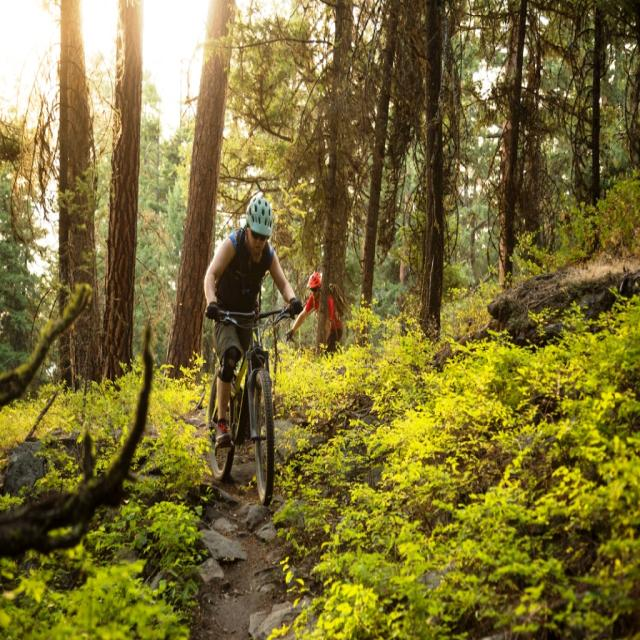bicycle: (204, 193, 301, 505)
